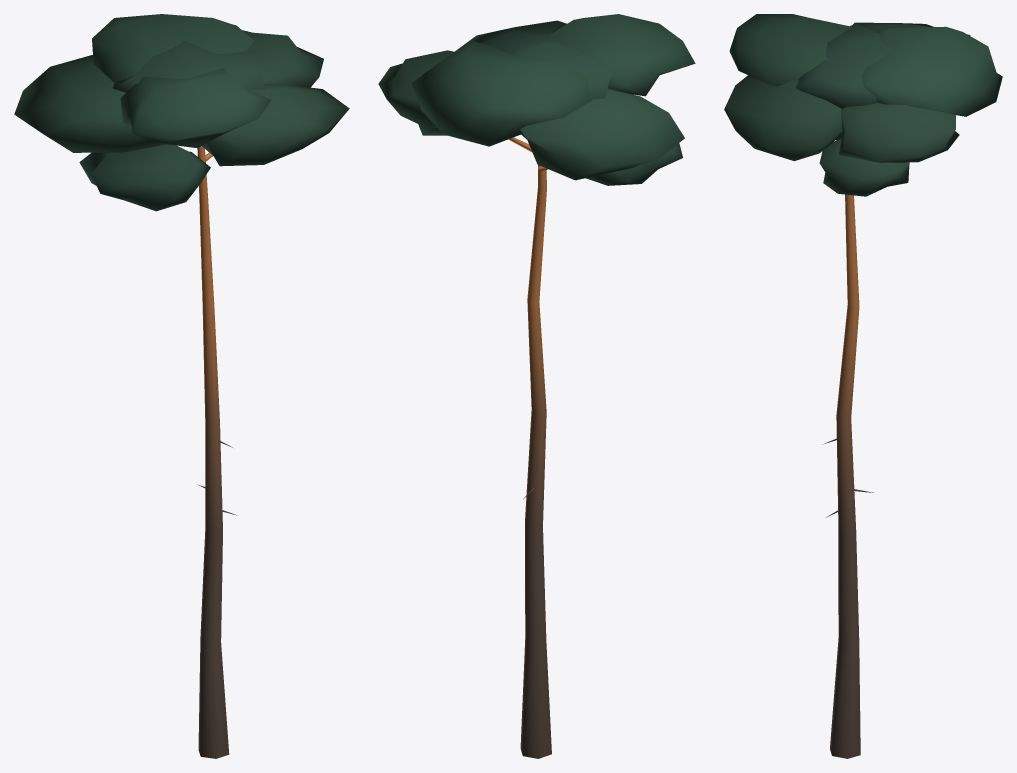
File: tree_pine_b.glb
The picture shows the model from 3 angles, left to right: view 1: azimuth 30°, elevation 25°; view 2: azimuth 150°, elevation 25°; view 3: azimuth 270°, elevation 25°; orthographic projection. The views are drawn at different scales.
Parts seen in each view (by area): view 1: tree_pine_b; view 2: tree_pine_b; view 3: tree_pine_b.
Part boxes in pixels (x1,y1,x2,y2): tree_pine_b: (14,14,349,758); tree_pine_b: (378,14,695,758); tree_pine_b: (724,14,1002,758).
Size of the model in its own units: 10.34 by 24.24 by 8.68.
